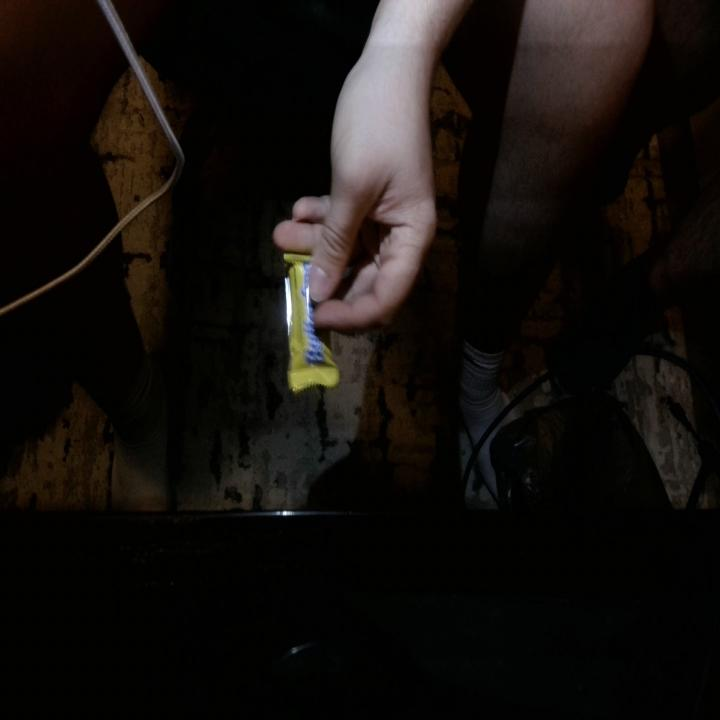Butter Finger: (274, 224, 354, 413)
